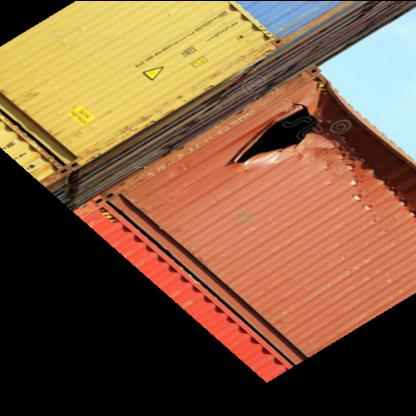Damage: (226, 73, 354, 172), (343, 100, 413, 198)
